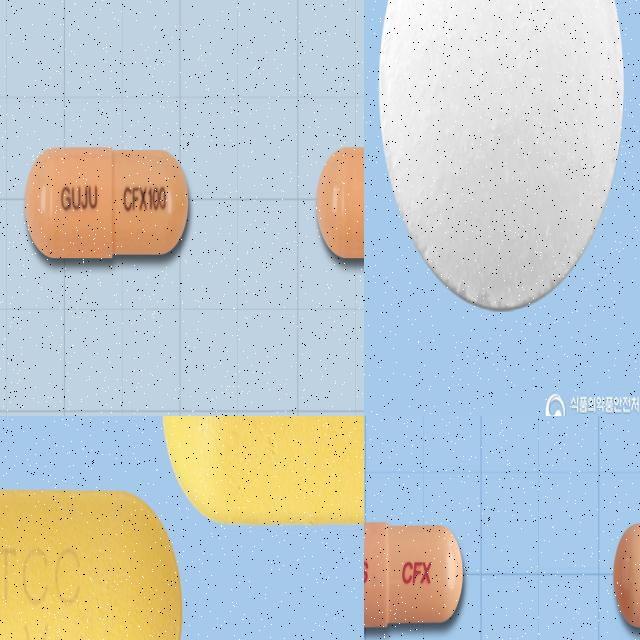Besivo: (376, 0, 630, 315)
Cefixime Cap- Mothers: (364, 514, 467, 640)
Cefsin Cap: (21, 140, 193, 267), (313, 145, 364, 266)
Clycin: (0, 487, 182, 640), (162, 416, 364, 522)
